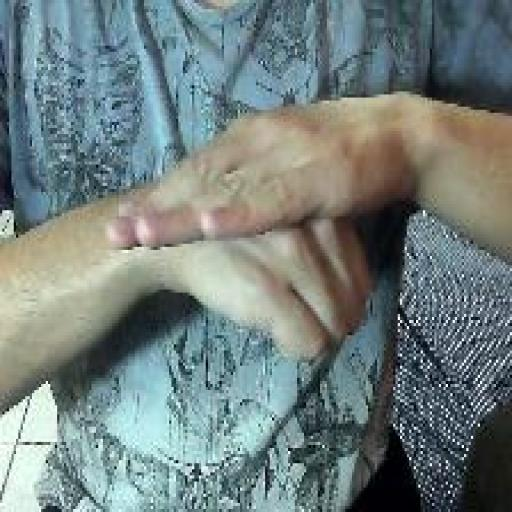Inu -dog-: (100, 104, 375, 368)
